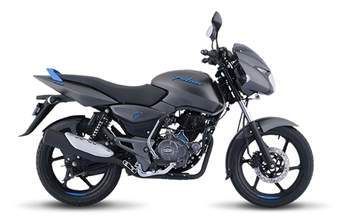bike: (27, 13, 315, 205)
